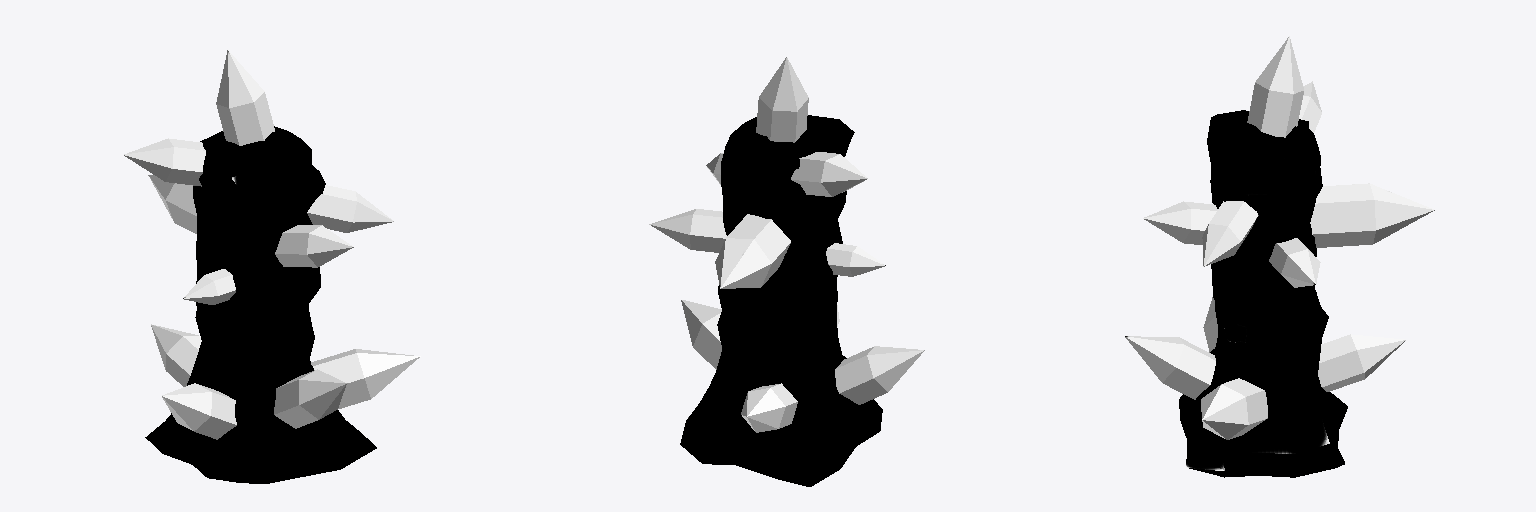
The picture shows the model from 3 angles: view 1: azimuth 30°, elevation 25°; view 2: azimuth 150°, elevation 25°; view 3: azimuth 270°, elevation 25°; orthographic projection.
Parts seen in each view (by area): view 1: Cube_Cube.001; view 2: Cube_Cube.001; view 3: Cube_Cube.001.
Part boxes in pixels (bbox=[...]): Cube_Cube.001: bbox=[124, 50, 420, 483]; Cube_Cube.001: bbox=[649, 57, 924, 486]; Cube_Cube.001: bbox=[1125, 36, 1434, 477].
Size of the model in its own units: 6.7 by 10.61 by 7.17.
1 materials, 1 textured.